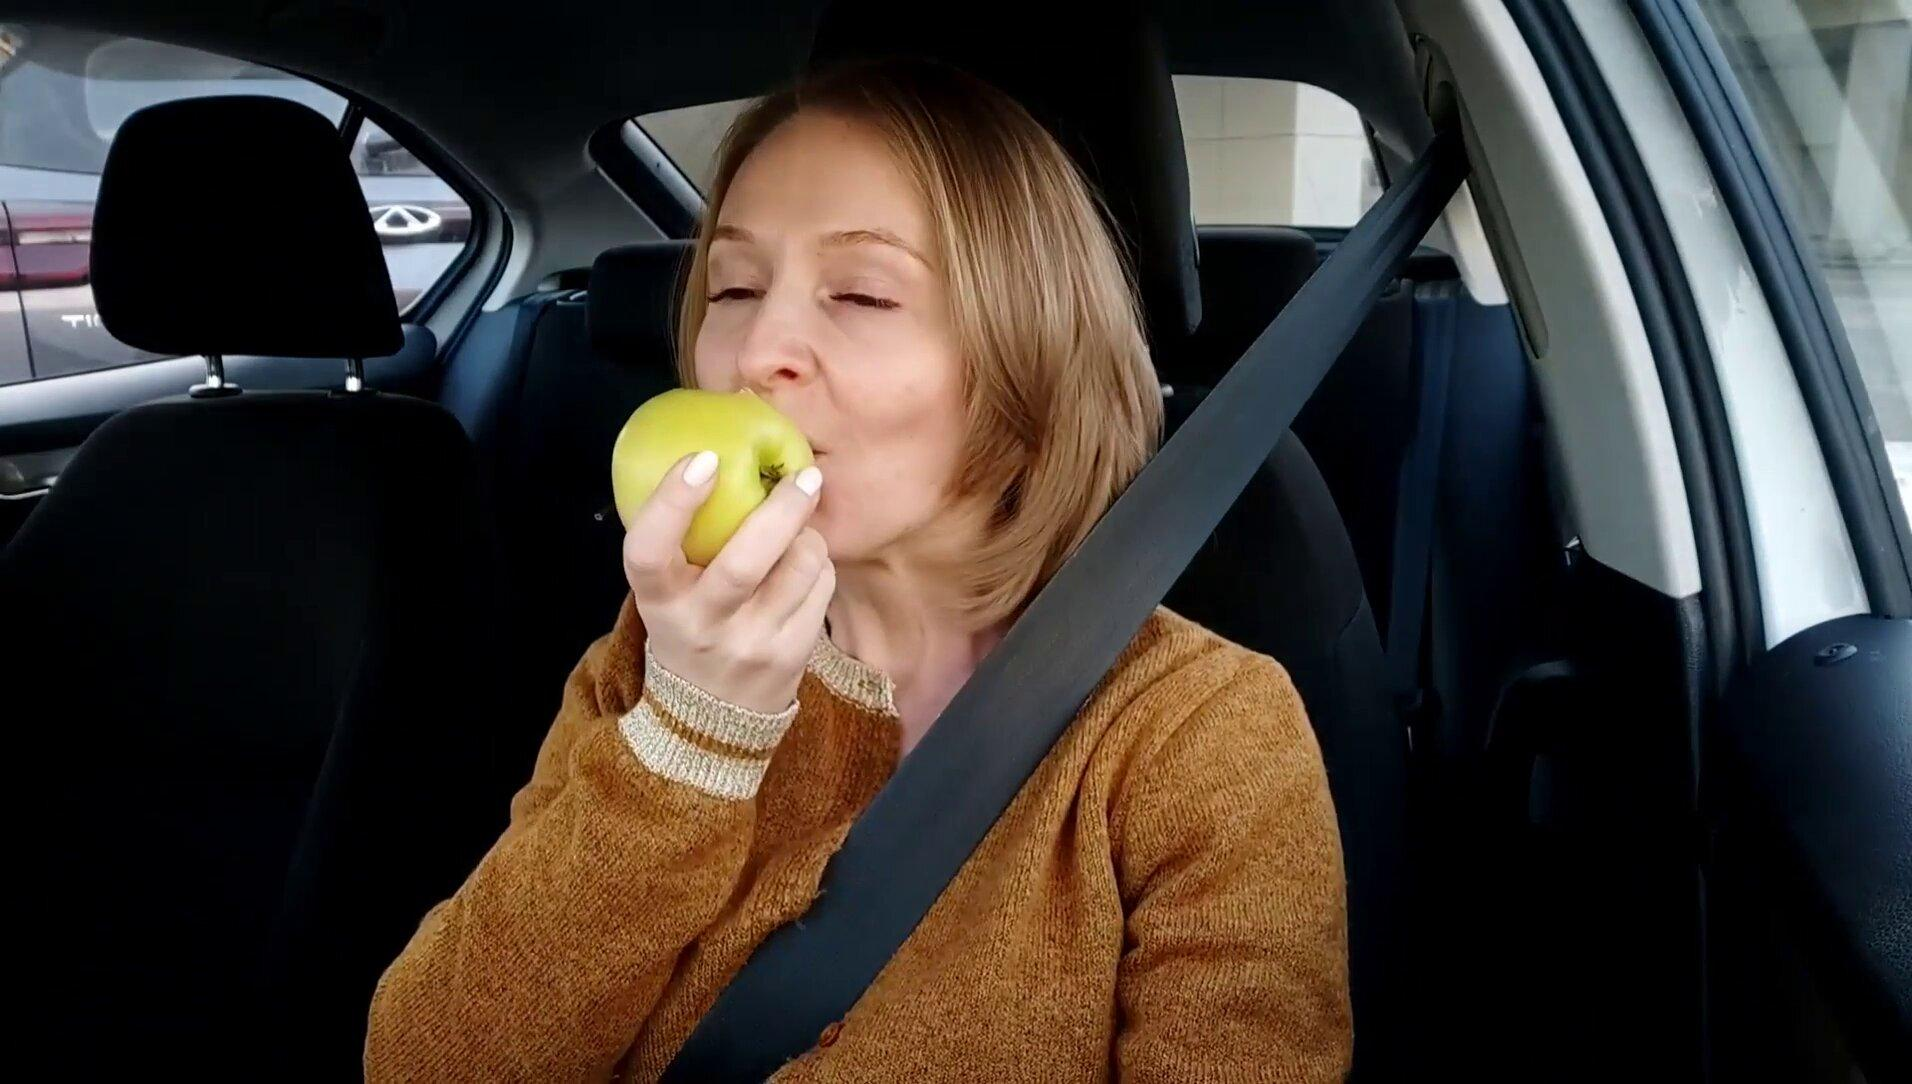Eating: (609, 380, 835, 573)
